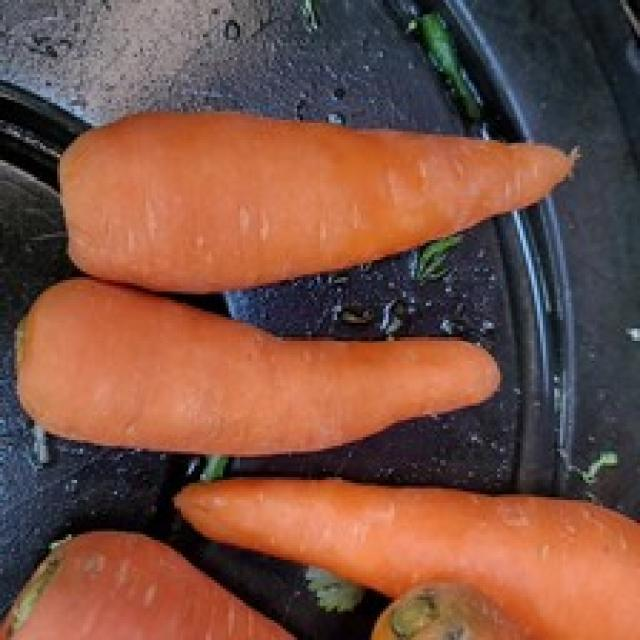carrot: (54, 99, 590, 296), (15, 274, 501, 456), (166, 477, 640, 640)
